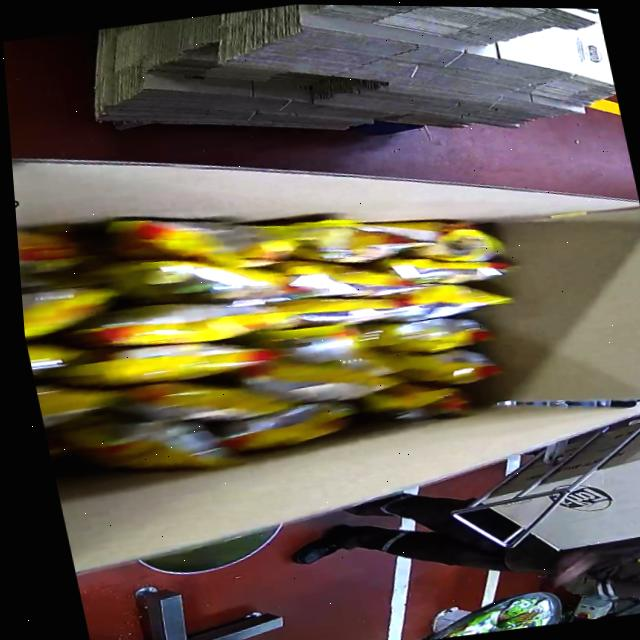SALTED: (12, 157, 558, 498)
